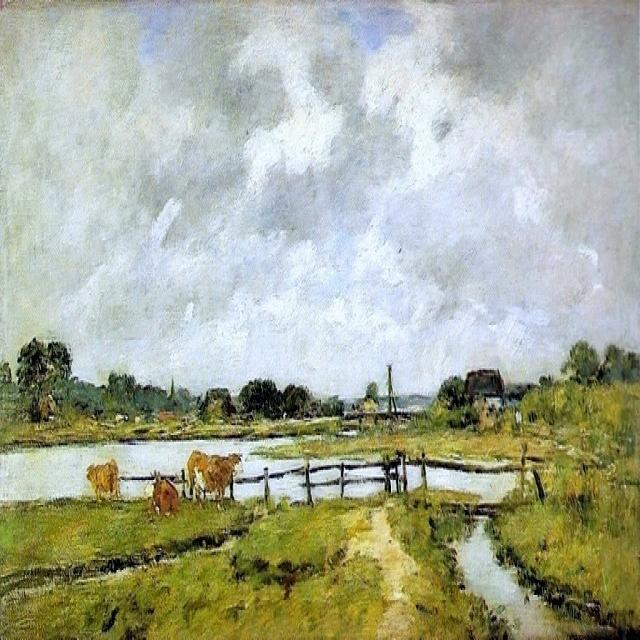cow: (185, 443, 245, 510), (86, 460, 118, 498), (151, 472, 177, 515)
